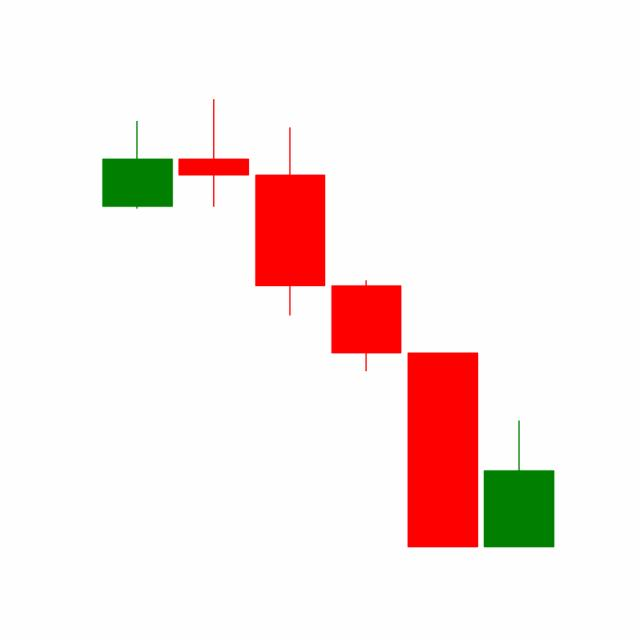Marubozu: (403, 350, 481, 550)
